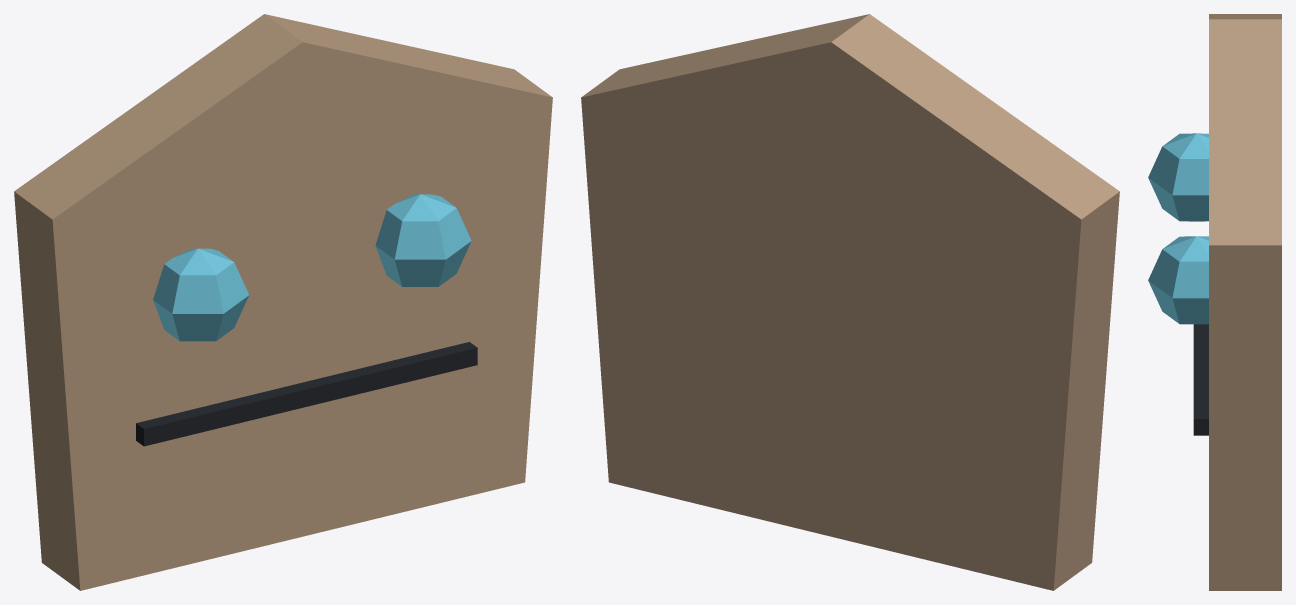
File: droid-humanoid-replicant.lod.glb
3 views of the same model, side by side, from view 1: azimuth 30°, elevation 25°; view 2: azimuth 150°, elevation 25°; view 3: azimuth 270°, elevation 25° (orthographic). The views are drawn at different scales.
Parts seen in each view (by area): view 1: m; view 2: m; view 3: m.
Boxes of the visible parts, <box> form: m: <box>14,14,552,590</box>; m: <box>581,14,1119,590</box>; m: <box>1148,14,1281,590</box>.
Bounding box in the file's own units: 0.1 × 0.0944 × 0.0244.
